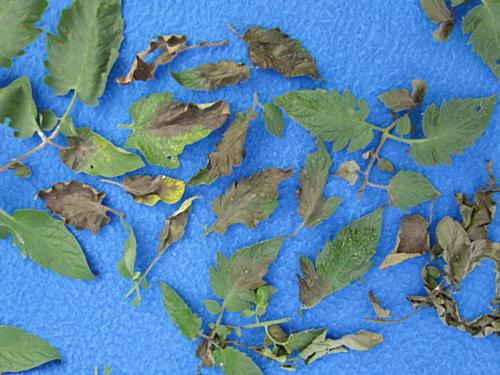Tomato leaf late blight: (19, 0, 161, 125), (108, 57, 237, 185), (281, 187, 396, 330), (250, 62, 387, 162), (192, 214, 290, 327), (197, 148, 294, 260), (179, 95, 268, 207), (270, 135, 355, 244), (155, 31, 258, 114), (49, 117, 148, 199), (142, 280, 218, 343)
